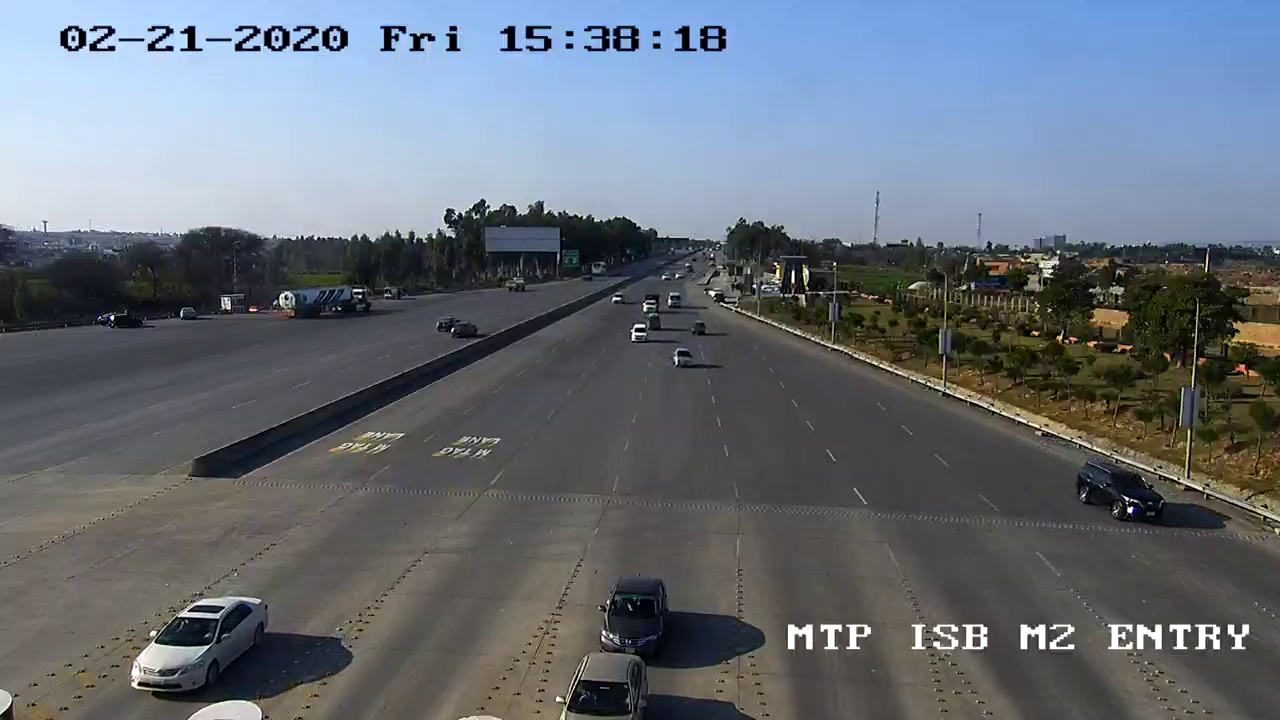f1: (120, 580, 282, 703), (1072, 451, 1175, 535), (594, 566, 680, 664)
